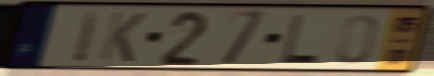0: (333, 13, 381, 66)
2: (159, 8, 211, 68)
7: (221, 8, 266, 69)
I: (69, 8, 105, 65)
K: (97, 9, 149, 64)
L: (279, 13, 321, 65)
